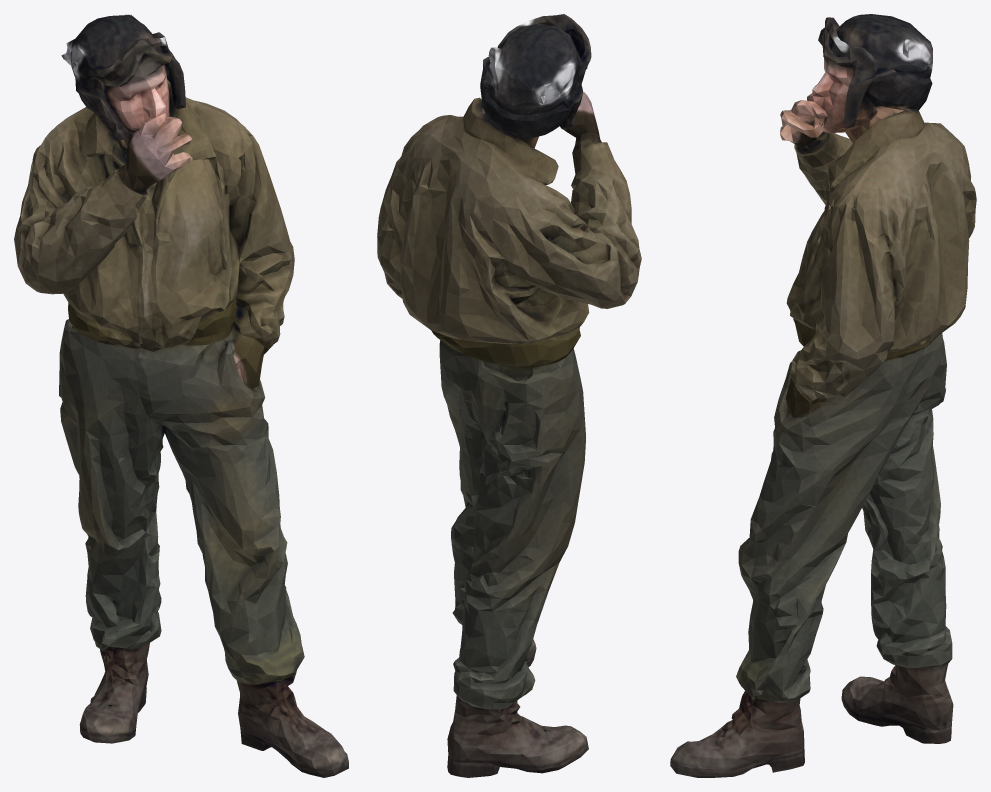
The model's file is crew_us_smoke.obj.
The picture shows the model from 3 angles, left to right: view 1: azimuth 30°, elevation 25°; view 2: azimuth 150°, elevation 25°; view 3: azimuth 270°, elevation 25°; orthographic projection. The views are drawn at different scales.
Visible parts, largest first — view 1: crew_us_smoke; view 2: crew_us_smoke; view 3: crew_us_smoke.
Boxes of the visible parts, box(x1,y1,x2,y2) form: crew_us_smoke: box(14, 14, 348, 777); crew_us_smoke: box(377, 14, 641, 777); crew_us_smoke: box(670, 14, 976, 777).
Size of the model in its own units: 0.6731 by 1.8 by 0.712.
1 material, 1 textured.
